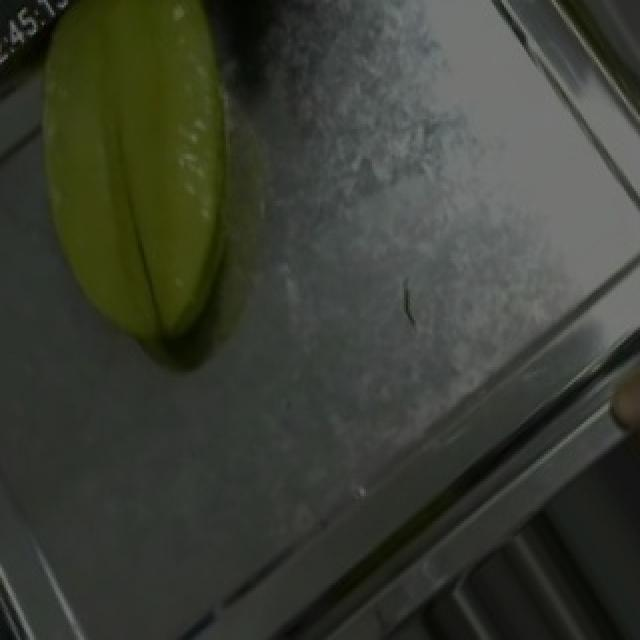fruit: (2, 0, 334, 360)
